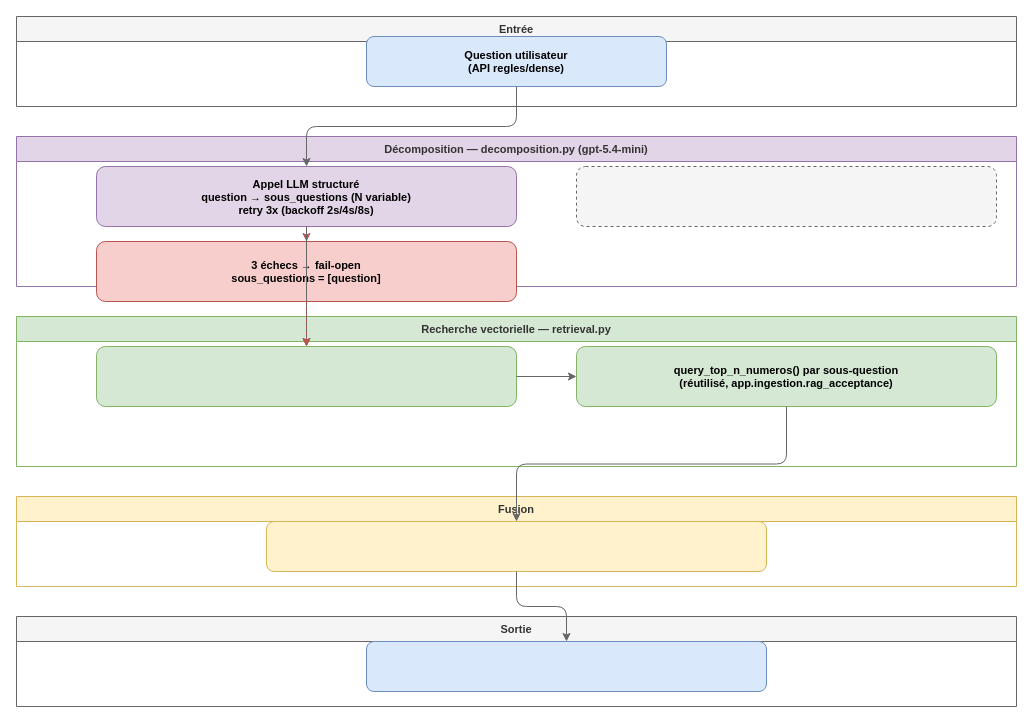
This 1033x723 diagram has some shape labels left out. Here are the shapes that lost their labels. From the top down, the centre of each, then its label:
At (x=786, y=196): "prompt informé du corpus Opquast few-shot : 1 règle = 1 sujet".
At (x=306, y=376): "embed_batch(sous_questions) 1 seul appel API embeddings".
At (x=516, y=546): "Union simple + dédoublonnage pas de RRF, pas de plafond après fusion".
At (x=566, y=666): "list[int] — numéros de règle taille variable (union, pas de N fixe)".
